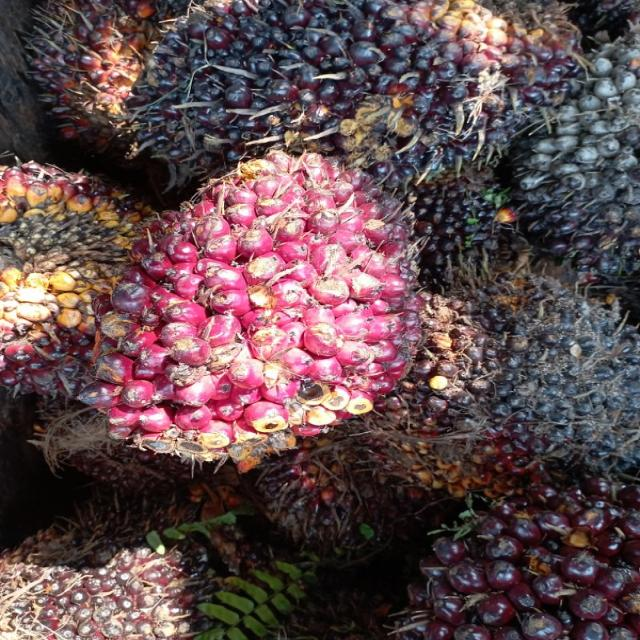fraksi 00: (99, 0, 591, 215)
fraksi 3: (18, 125, 535, 532)
